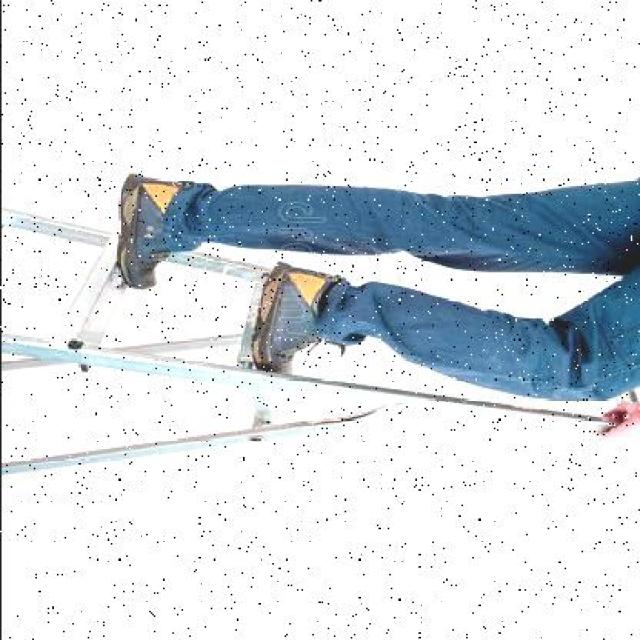shoes: (246, 261, 346, 377), (110, 170, 198, 287)
